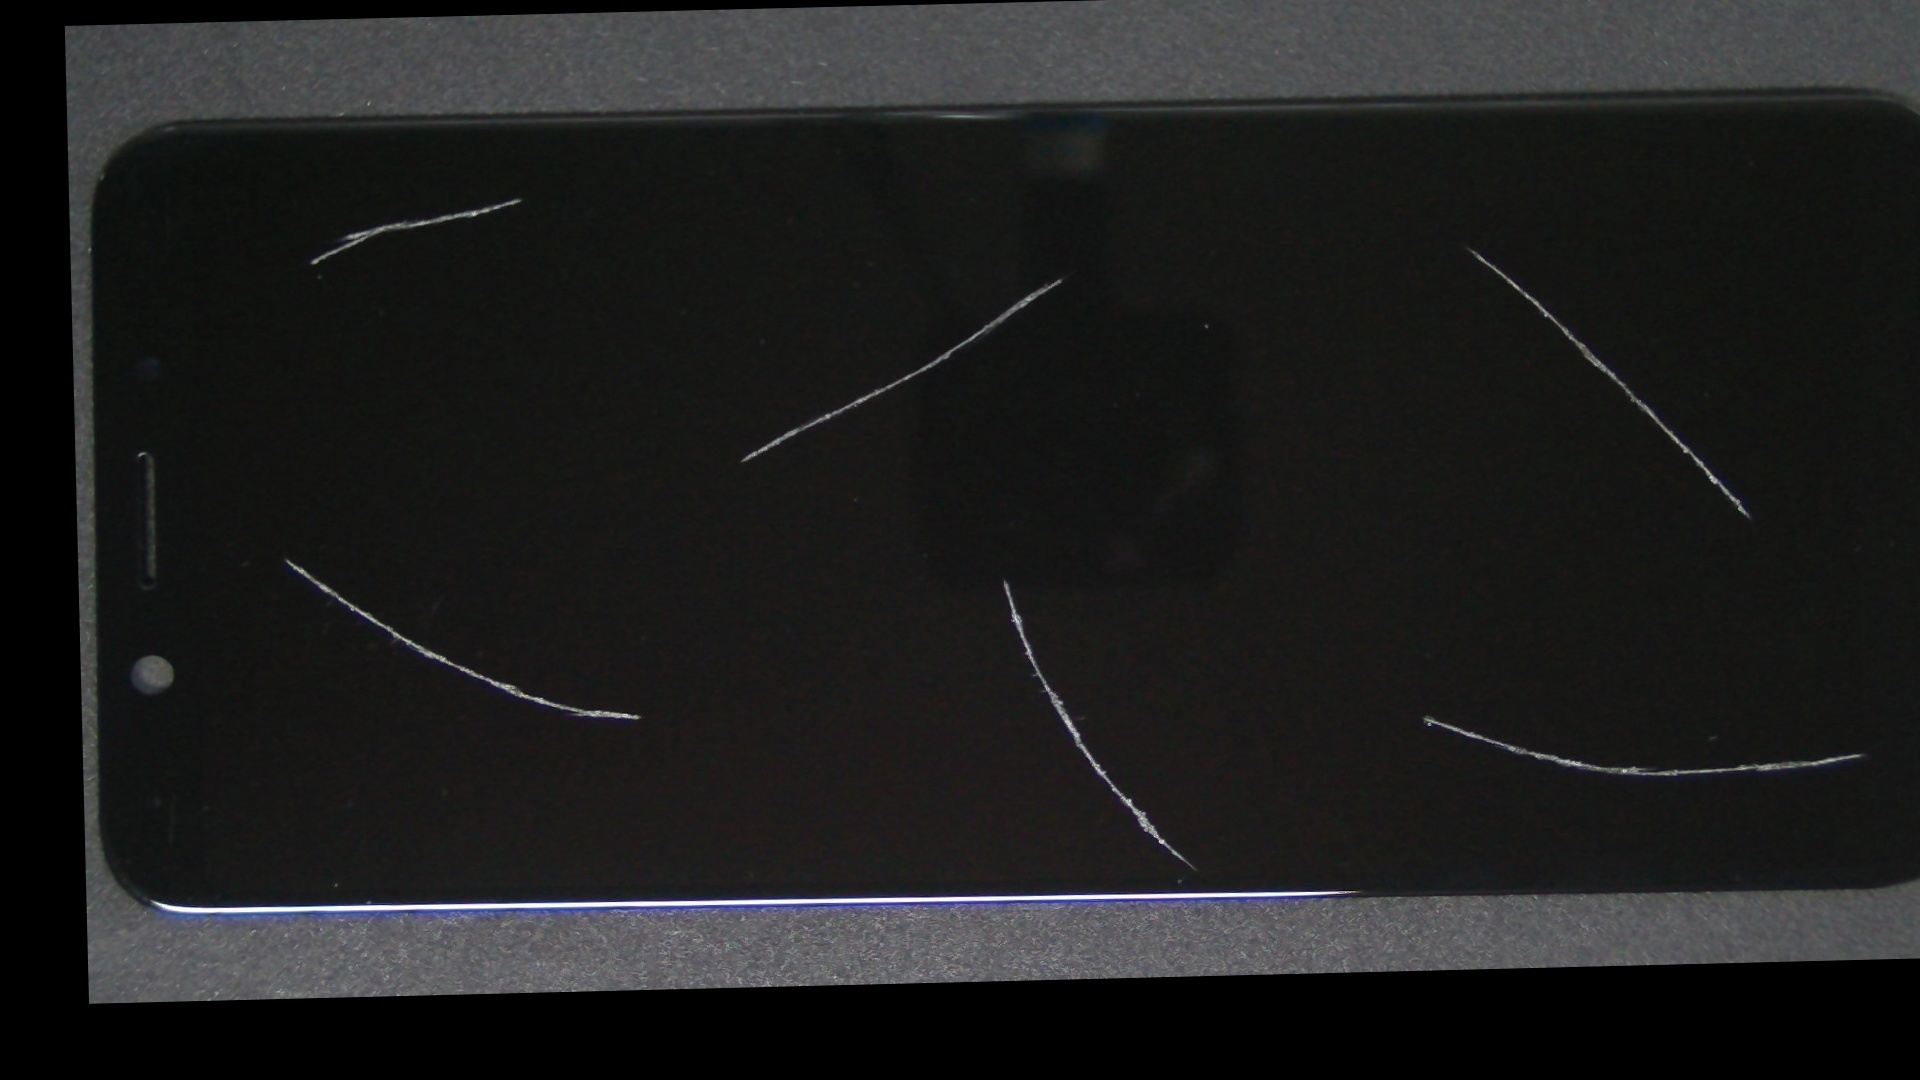oil: (746, 338, 1920, 988), (535, 278, 1474, 877), (766, 104, 1920, 393), (563, 127, 1557, 429), (174, 285, 393, 827), (293, 100, 746, 295)
